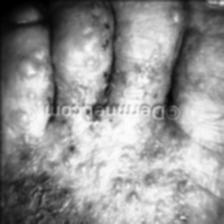Non-Cancerous Skin Condition: (0, 125, 196, 224), (68, 7, 189, 98)
